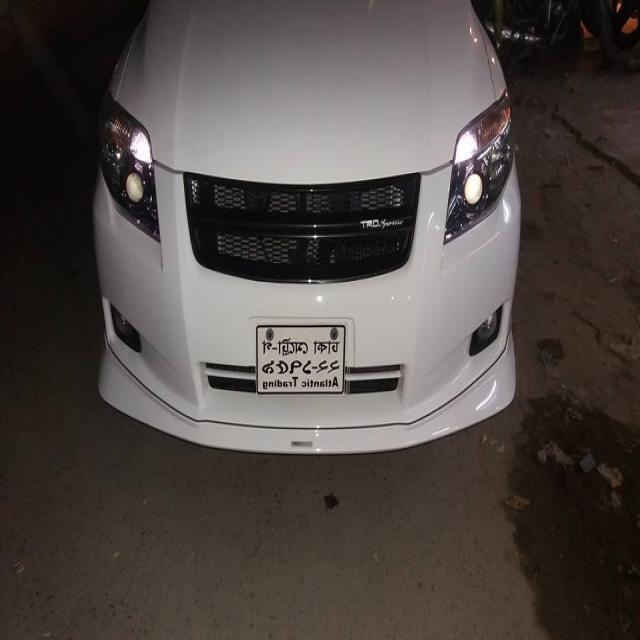numberplate: (256, 321, 347, 395)
